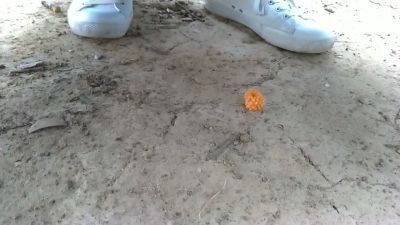eggs: (241, 84, 268, 113)
